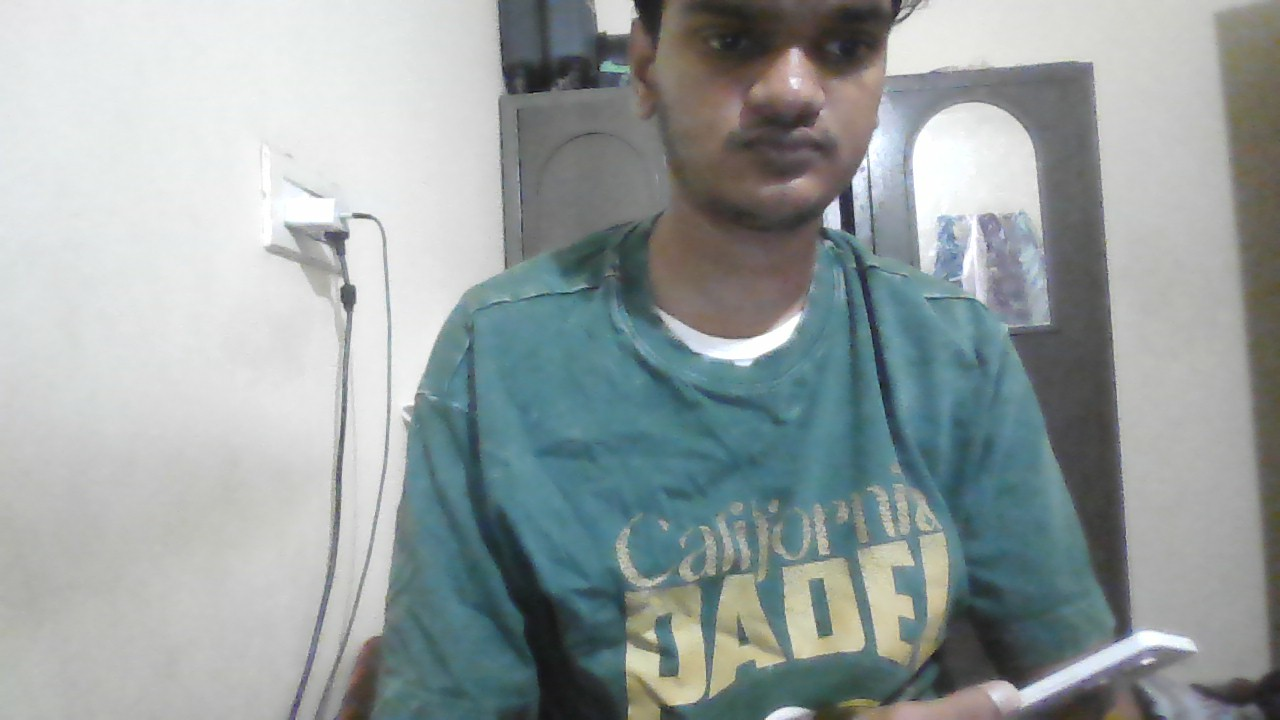phone: (1044, 625, 1206, 691)
